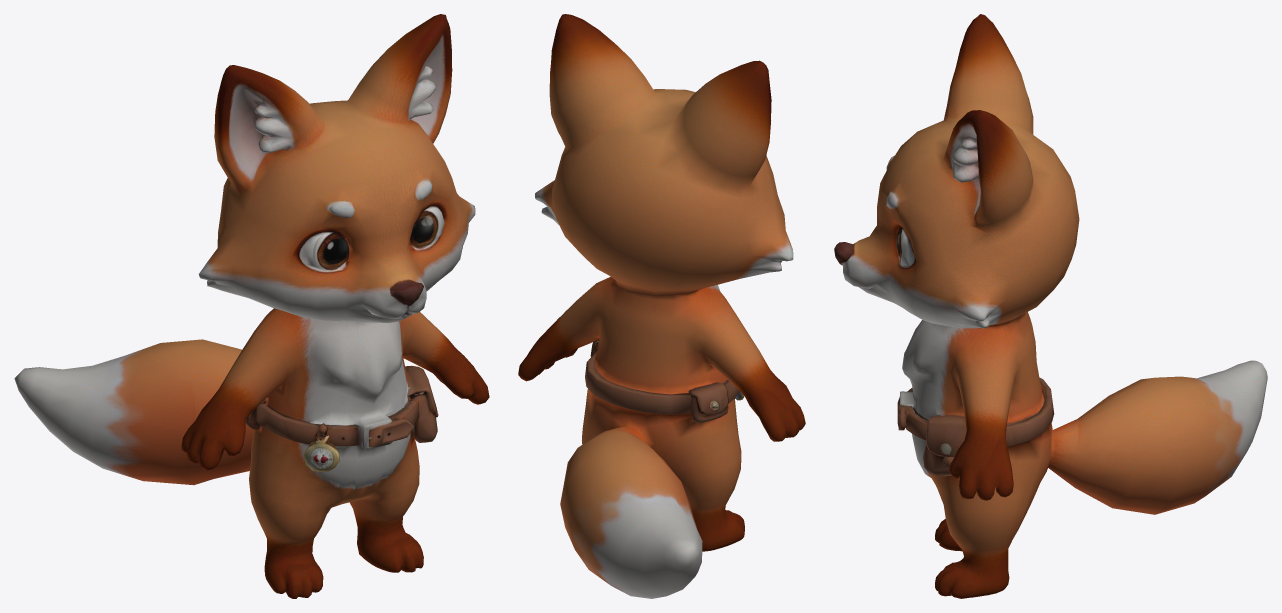
File: fox.glb
3 views of the same model, side by side, from view 1: azimuth 30°, elevation 25°; view 2: azimuth 150°, elevation 25°; view 3: azimuth 270°, elevation 25° (orthographic). The views are drawn at different scales.
Parts seen in each view (by area): view 1: tripo_node_78a36354-2118-4e3e-92af-dc7a58fd3366; view 2: tripo_node_78a36354-2118-4e3e-92af-dc7a58fd3366; view 3: tripo_node_78a36354-2118-4e3e-92af-dc7a58fd3366.
Boxes of the visible parts, x1=… form: tripo_node_78a36354-2118-4e3e-92af-dc7a58fd3366: x1=14, y1=14, x2=489, y2=598; tripo_node_78a36354-2118-4e3e-92af-dc7a58fd3366: x1=518, y1=14, x2=805, y2=598; tripo_node_78a36354-2118-4e3e-92af-dc7a58fd3366: x1=834, y1=14, x2=1267, y2=598.
Bounding box in the file's own units: 0.6216 × 0.9765 × 0.7597.
Materials: 1 (1 with a texture image).
